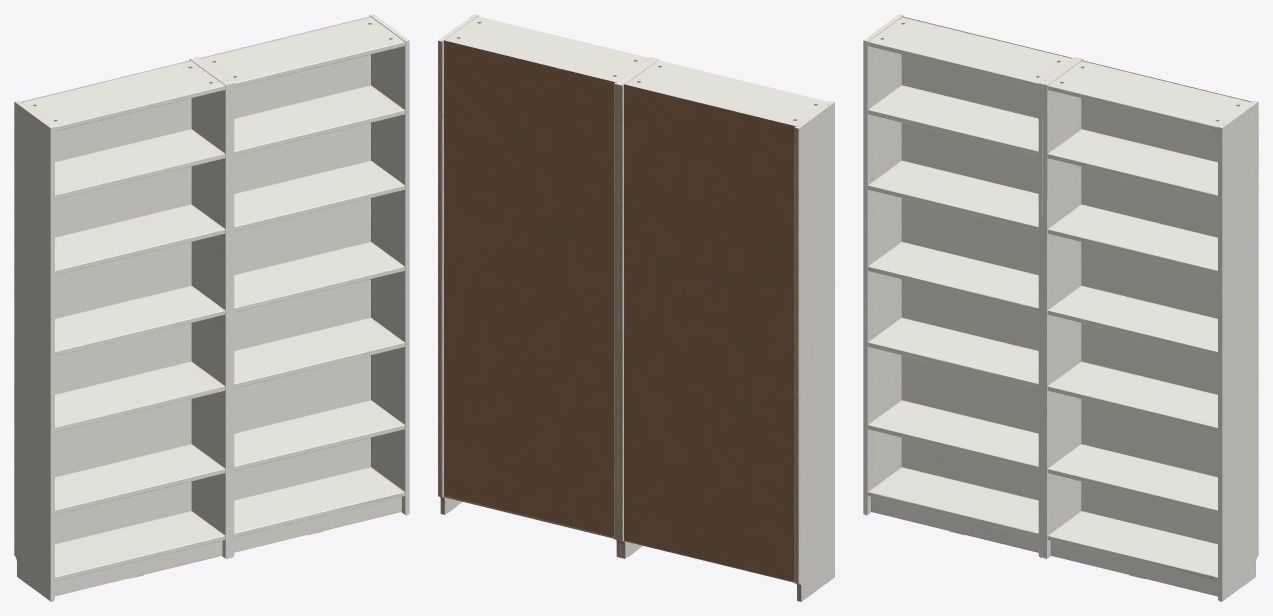
3 views of the same model, side by side, from view 1: azimuth 30°, elevation 25°; view 2: azimuth 150°, elevation 25°; view 3: azimuth 330°, elevation 25° (orthographic).
Parts seen in each view (by area): view 1: Mesh_13781809891860639151.002; view 2: Mesh_13781809891860639151.002; view 3: Mesh_13781809891860639151.002.
Part boxes in pixels (left/top/right/bottom): Mesh_13781809891860639151.002: left=14, top=14, right=409, bottom=601; Mesh_13781809891860639151.002: left=438, top=14, right=834, bottom=601; Mesh_13781809891860639151.002: left=863, top=14, right=1258, bottom=601.
Bounding box in the file's own units: 1.6 × 2.02 × 0.2799.
Materials: 2 (1 with a texture image).
